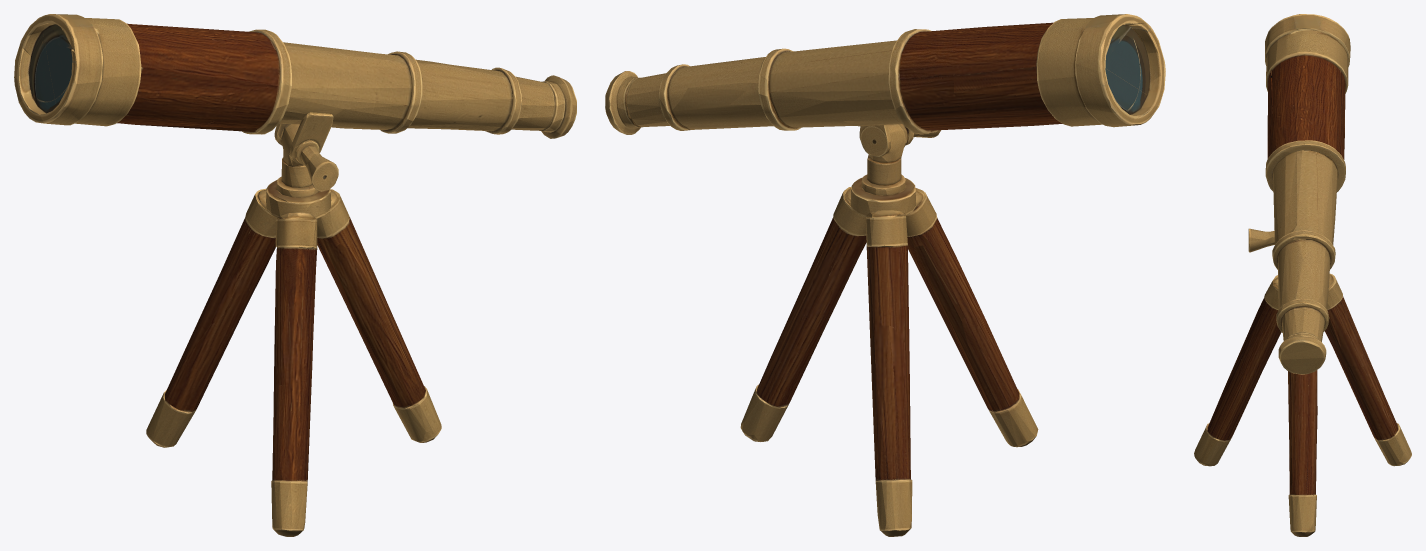
File: telescope.glb
The picture shows the model from 3 angles, left to right: view 1: azimuth 30°, elevation 25°; view 2: azimuth 150°, elevation 25°; view 3: azimuth 270°, elevation 25°; orthographic projection. The views are drawn at different scales.
Parts seen in each view (by area): view 1: output_unwrapped; view 2: output_unwrapped; view 3: output_unwrapped.
Boxes of the visible parts, x1,y1,x2,y2 form: output_unwrapped: (14, 14, 576, 536); output_unwrapped: (605, 14, 1165, 536); output_unwrapped: (1194, 14, 1411, 536).
Bounding box in the file's own units: 1.9 × 1.74 × 0.879.
Materials: 1 (1 with a texture image).
